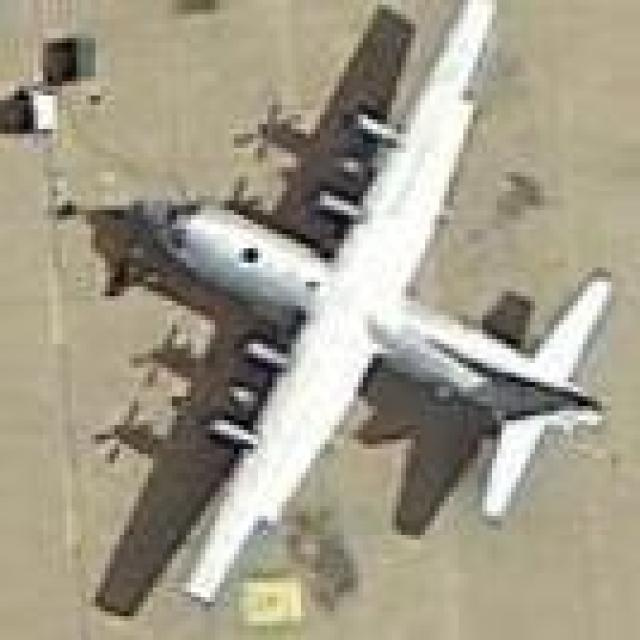C-130_TopDown: (98, 0, 622, 626)
